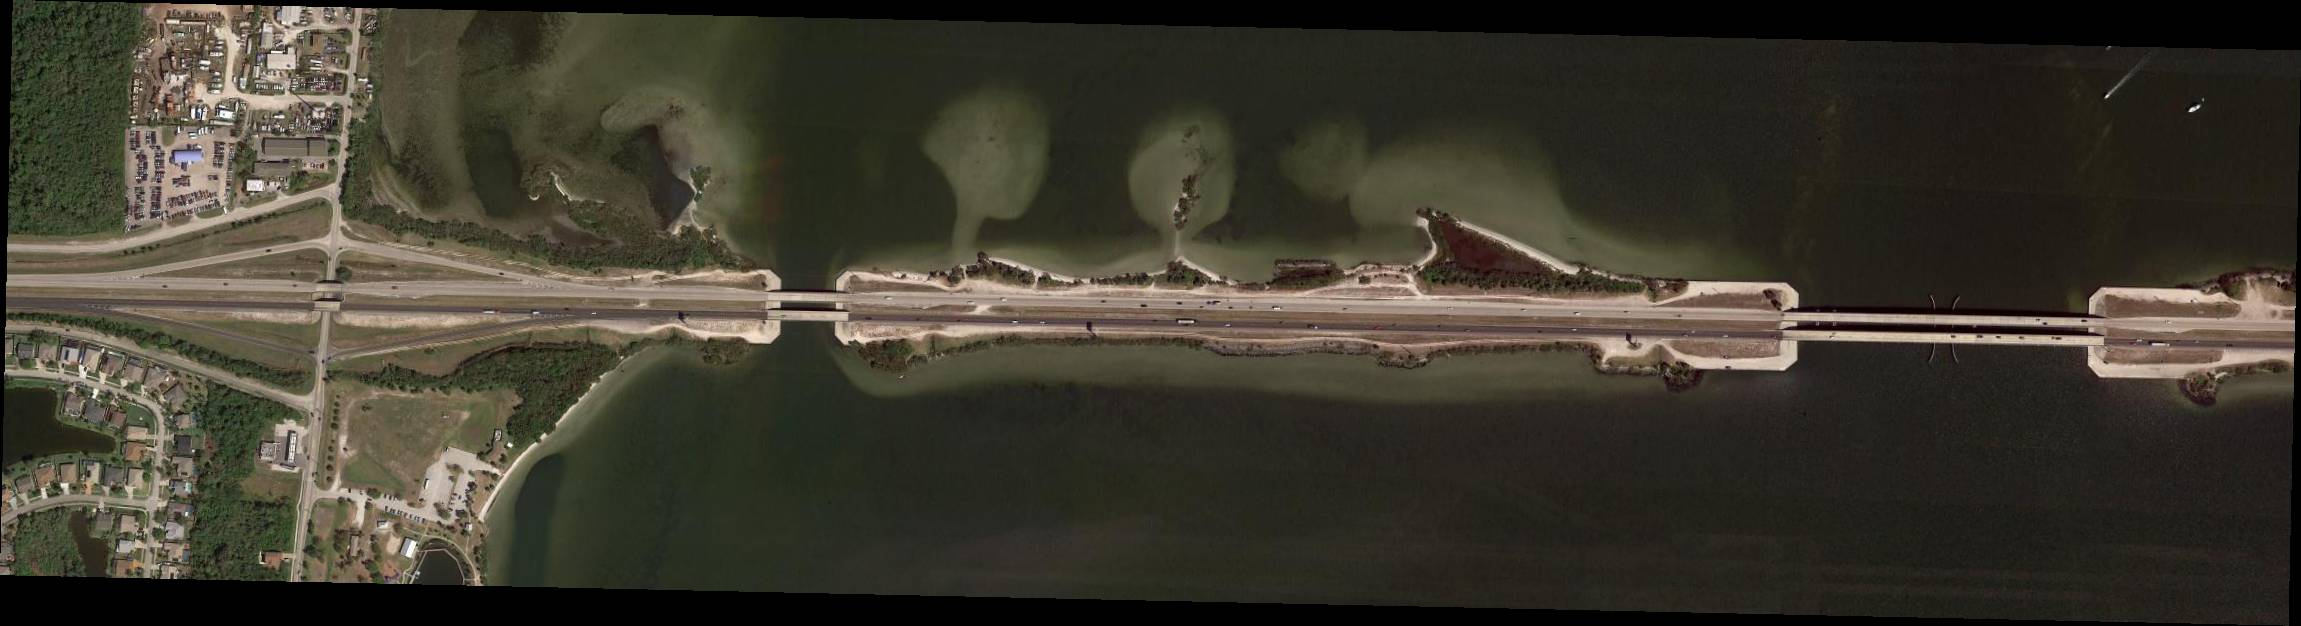bridge: (1784, 312, 2104, 328), (1782, 331, 2104, 346), (767, 309, 850, 323), (767, 292, 850, 303)
